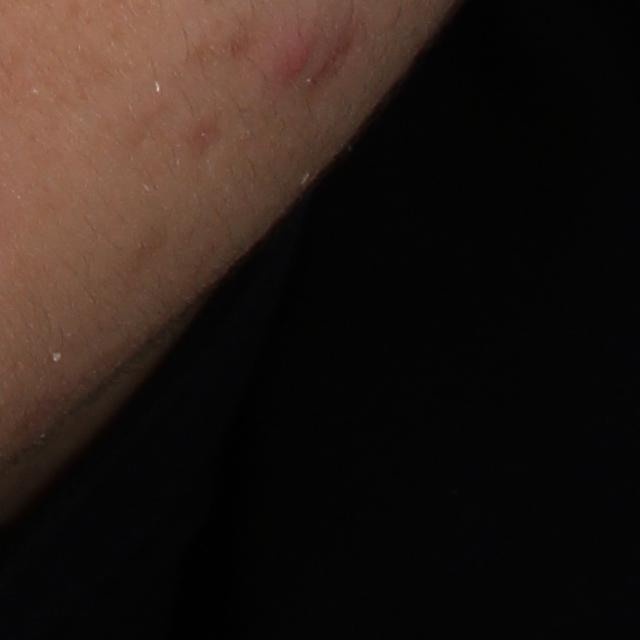papule: (276, 38, 309, 75)
